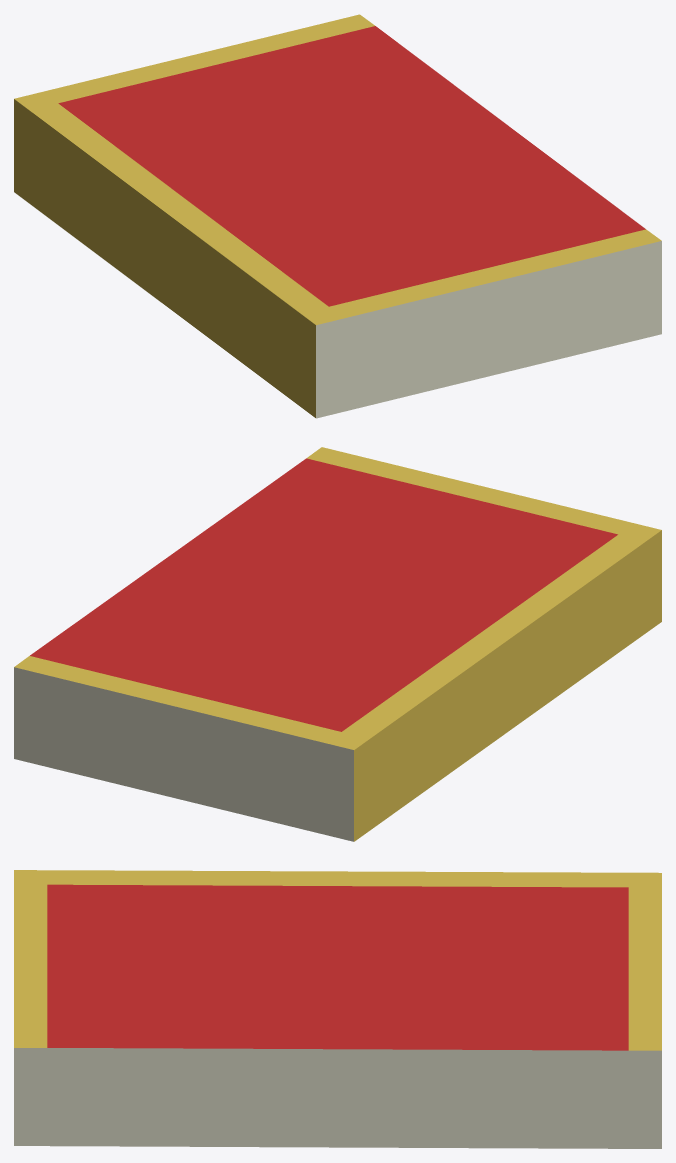
The model's file is RG-Dungeon_Book-04.fbx.
The picture shows the model from 3 angles, top to bottom: view 1: azimuth 30°, elevation 25°; view 2: azimuth 150°, elevation 25°; view 3: azimuth 270°, elevation 25°; orthographic projection. The views are drawn at different scales.
Parts seen in each view (by area): view 1: RG-Dungeon_Book-04; view 2: RG-Dungeon_Book-04; view 3: RG-Dungeon_Book-04.
Part boxes in pixels (left/top/right/bottom): RG-Dungeon_Book-04: left=14, top=14, right=661, bottom=418; RG-Dungeon_Book-04: left=14, top=447, right=661, bottom=841; RG-Dungeon_Book-04: left=14, top=870, right=661, bottom=1148.
Size of the model in its own units: 1.62 by 0.4116 by 2.46.
